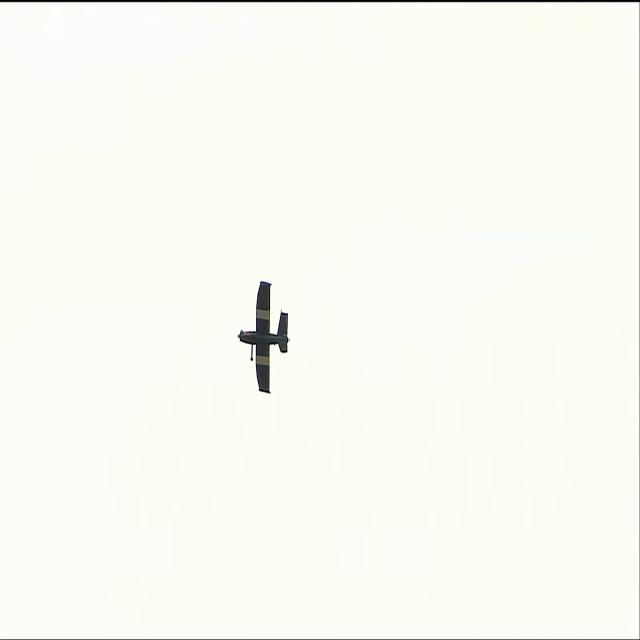iha: (232, 313, 283, 363)
